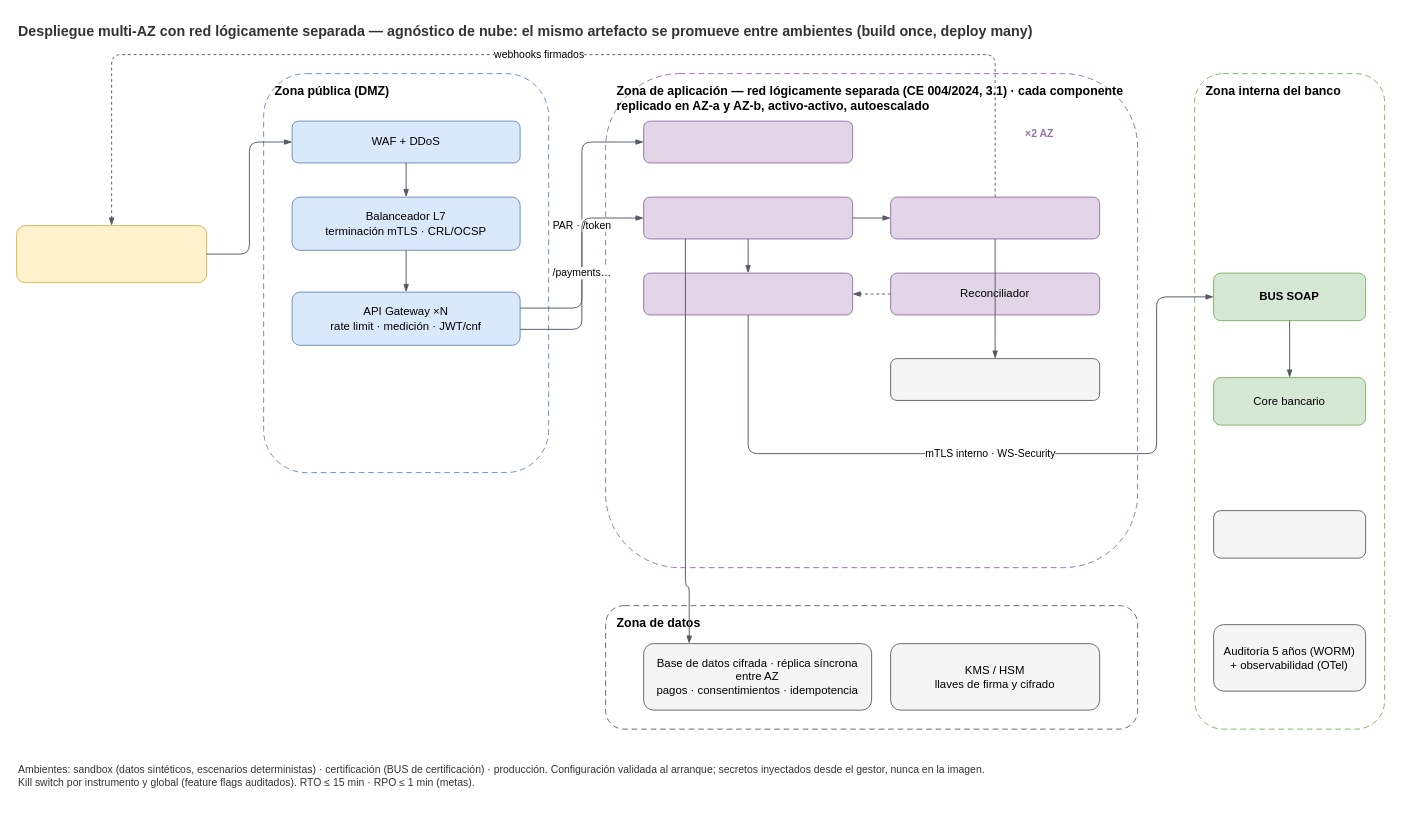
The diagram is 1401 pixels wide and 830 high, and some of its shapes have lost their labels. Each missing label, with the centre of its shape:
Adaptador SOAP: pixel 748 293
Aliados / Fintechs (Internet, mTLS): pixel 111 254
AS FAPI 2.0 (certificado): pixel 748 141
Cola de eventos: pixel 995 379
Eventos / webhooks: pixel 995 217
Gestor de secretos: pixel 1289 534
Servicio de Pagos: pixel 748 217
